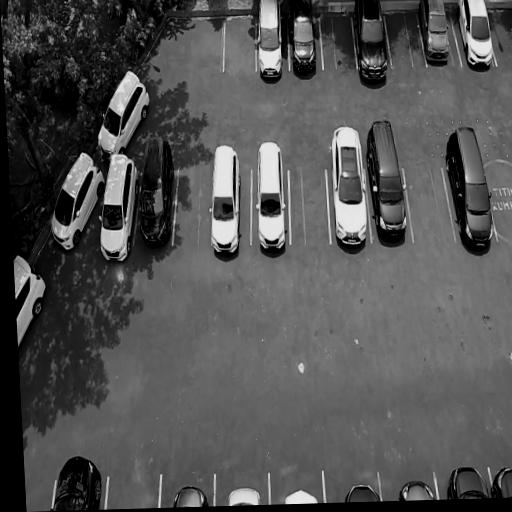Car: (438, 122, 502, 263), (42, 147, 109, 265), (363, 113, 412, 251), (90, 64, 153, 165), (326, 121, 372, 259), (94, 154, 142, 269), (135, 128, 176, 256), (13, 247, 52, 356), (256, 140, 291, 257), (209, 143, 244, 258), (47, 446, 106, 510), (354, 0, 394, 86), (455, 0, 496, 73), (287, 0, 322, 82), (418, 0, 454, 72), (256, 0, 286, 84), (446, 463, 491, 499), (395, 473, 437, 501), (169, 482, 212, 508), (344, 476, 381, 503), (225, 483, 264, 506), (491, 457, 512, 498), (282, 486, 319, 504)
Space Available: (403, 154, 456, 240), (291, 155, 328, 249), (174, 163, 209, 253), (319, 11, 357, 82), (387, 8, 426, 71), (486, 164, 512, 250), (223, 15, 257, 78), (107, 471, 161, 510), (486, 6, 512, 65)
